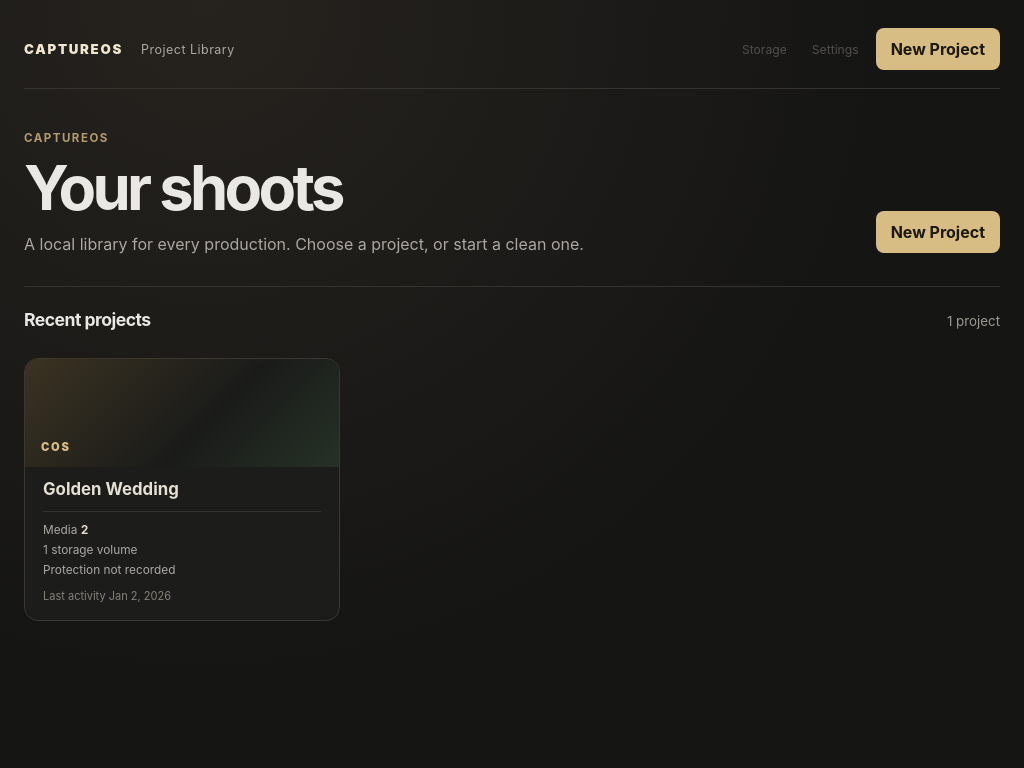
Test: CaptureOS application shell and local media engine › renders a persisted Moment failure received through the background progress event safely
This screenshot has width=1024, height=768.
Click the button with aria-label "Open Golden Wedding" at (182, 413), box [24,358,340,621]
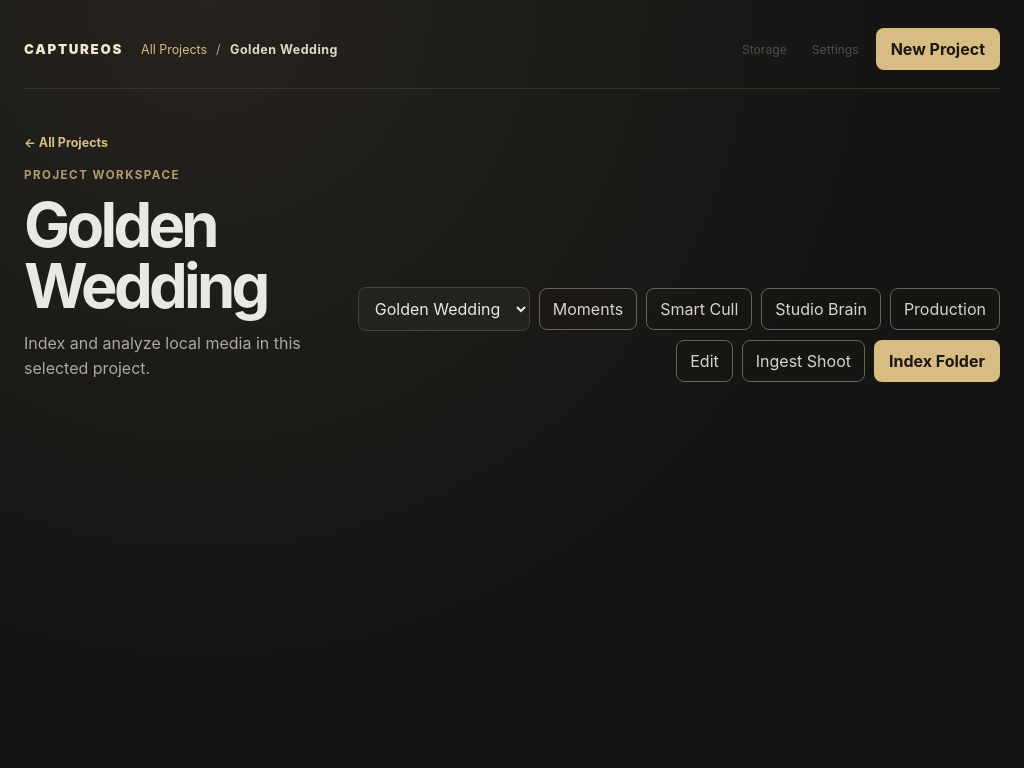
Click the button "Moments" at (588, 309), box [539,288,637,330]
(page scrolled)
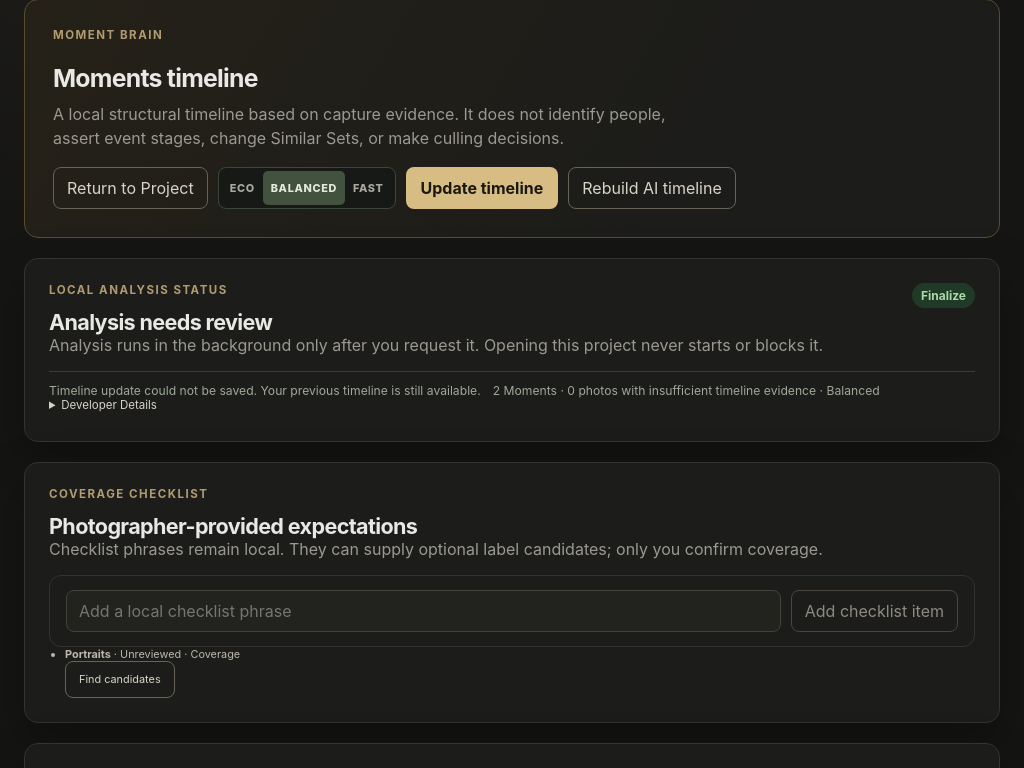
Expected: the message shows "Your previous timeline is still available.", [49,383,481,398]
